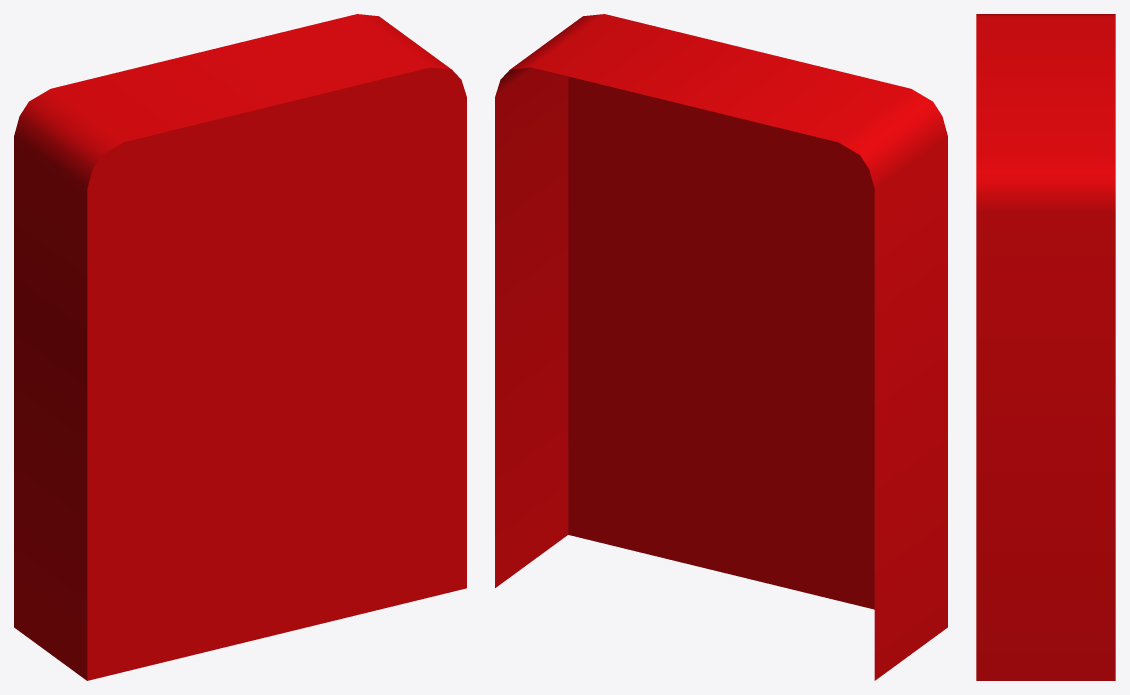
File: Wardrove.fbx
3 renders of one model, left to right at view 1: azimuth 30°, elevation 25°; view 2: azimuth 150°, elevation 25°; view 3: azimuth 270°, elevation 25°, orthographic. The views are drawn at different scales.
Visible parts, largest first — view 1: Warbdrove; view 2: Warbdrove; view 3: Warbdrove.
Part boxes in pixels (<box>): Warbdrove: <box>14,14,466,680</box>; Warbdrove: <box>495,14,947,680</box>; Warbdrove: <box>976,14,1115,680</box>.
Size of the model in its own units: 150 by 200 by 50.
